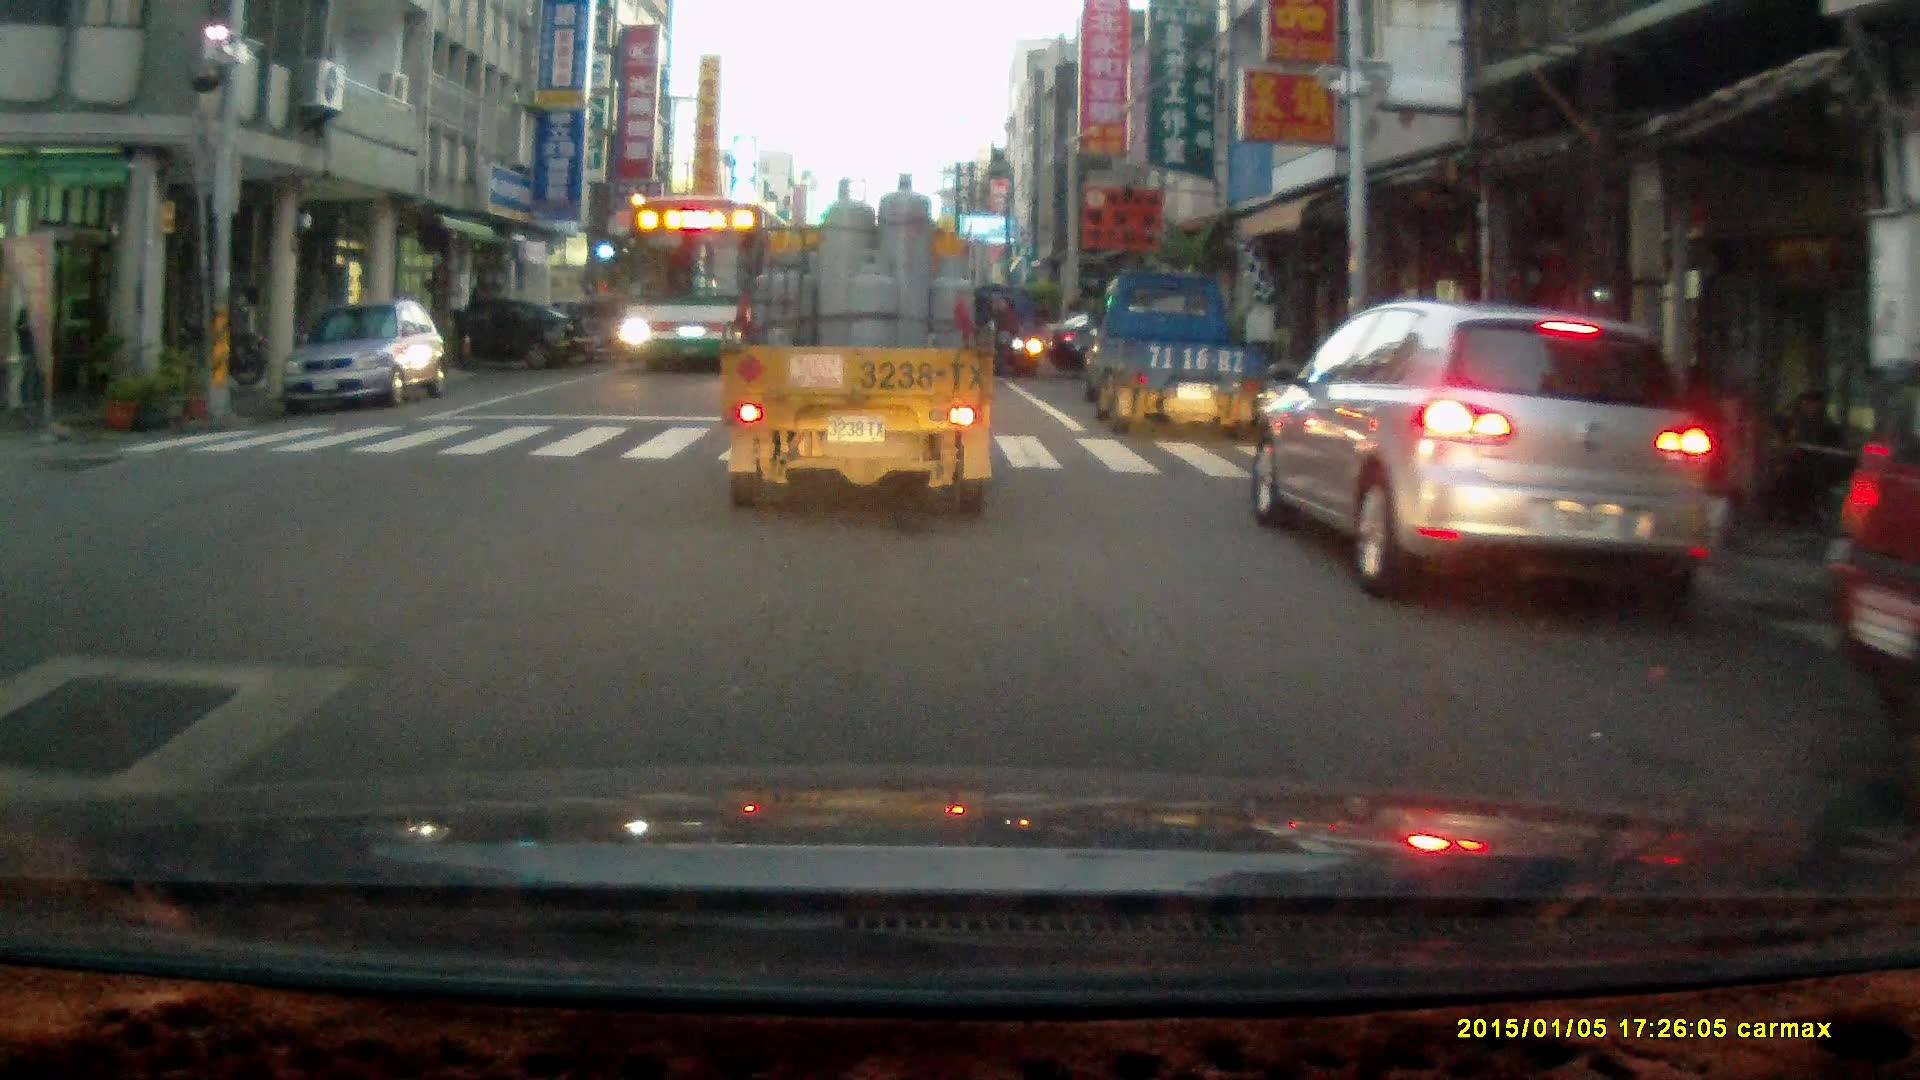pedestrian: (11, 283, 47, 407)
vehicle: (1254, 298, 1715, 613), (726, 171, 995, 521), (1823, 385, 1920, 739), (611, 199, 784, 380), (1080, 266, 1262, 435), (277, 301, 449, 418), (391, 297, 593, 372), (566, 294, 663, 365)
